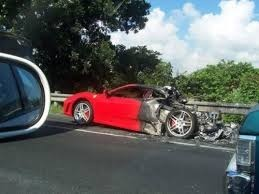Smashed: (139, 90, 222, 137)
